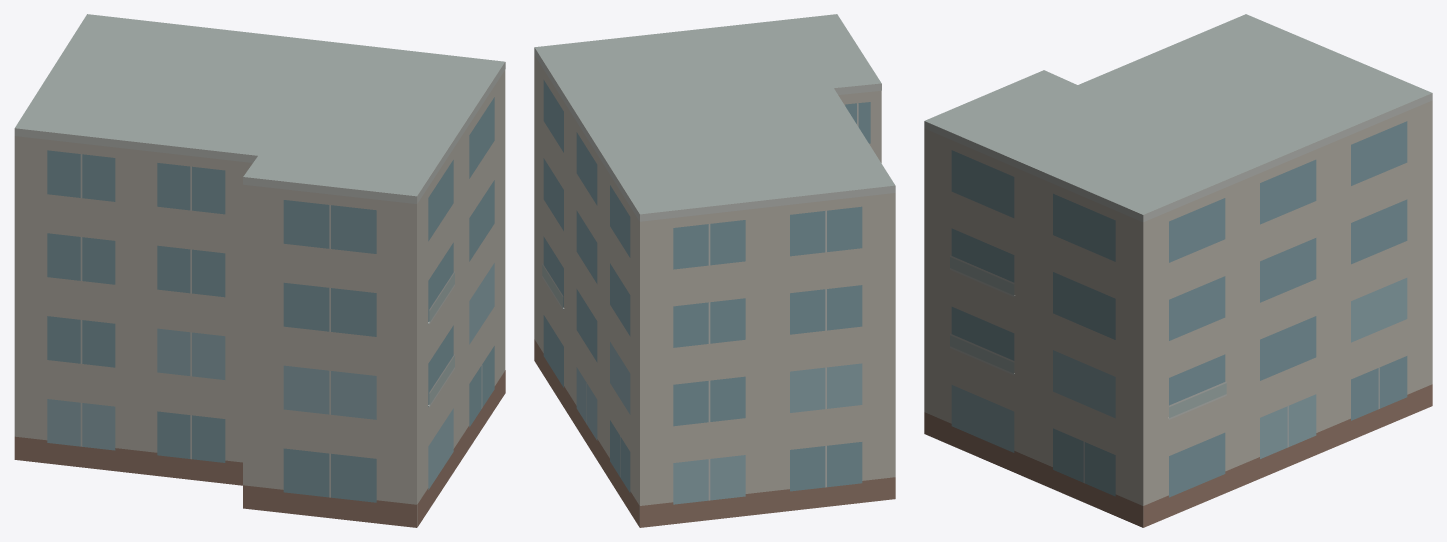
Rendered from survey-upis-32676161.glb.
3 views of the same model, side by side, from view 1: azimuth 30°, elevation 25°; view 2: azimuth 150°, elevation 25°; view 3: azimuth 270°, elevation 25° (orthographic). The views are drawn at different scales.
Visible parts, largest first — view 1: survey-upis-32676161.tmp; view 2: survey-upis-32676161.tmp; view 3: survey-upis-32676161.tmp.
Boxes of the visible parts, x1,y1,x2,y2 form: survey-upis-32676161.tmp: (14,14,505,527); survey-upis-32676161.tmp: (534,14,895,527); survey-upis-32676161.tmp: (924,14,1432,527).
Size of the model in its own units: 14.33 by 10.4 by 15.32.
